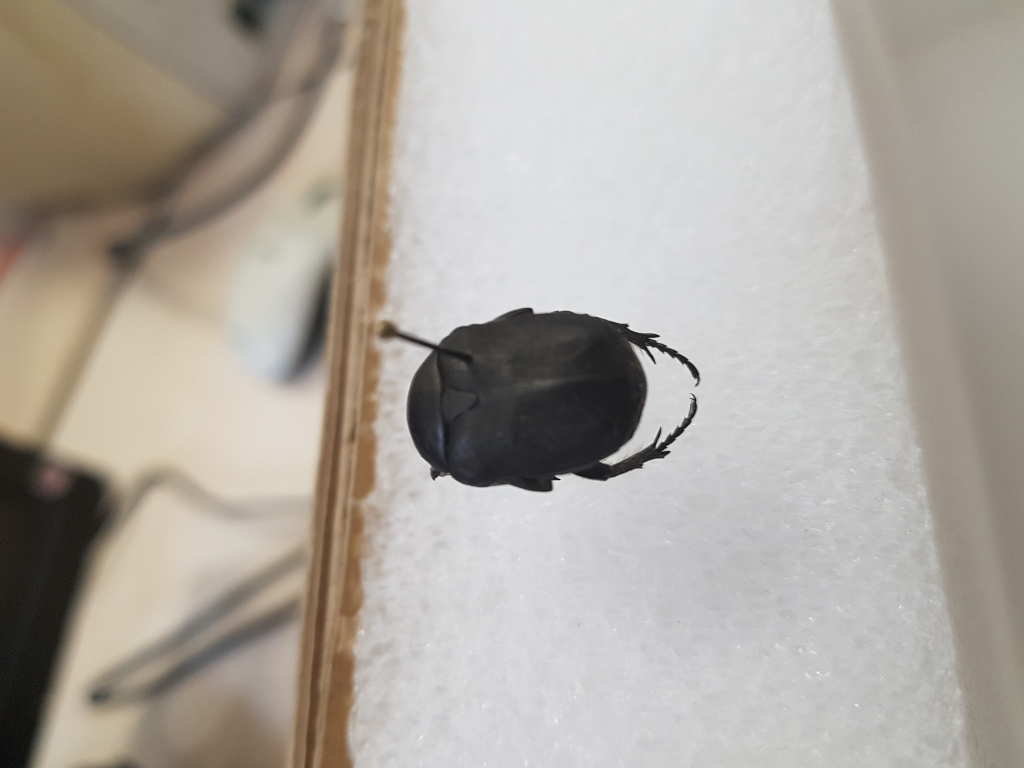Protaetia_asiatica: (392, 300, 708, 500)
